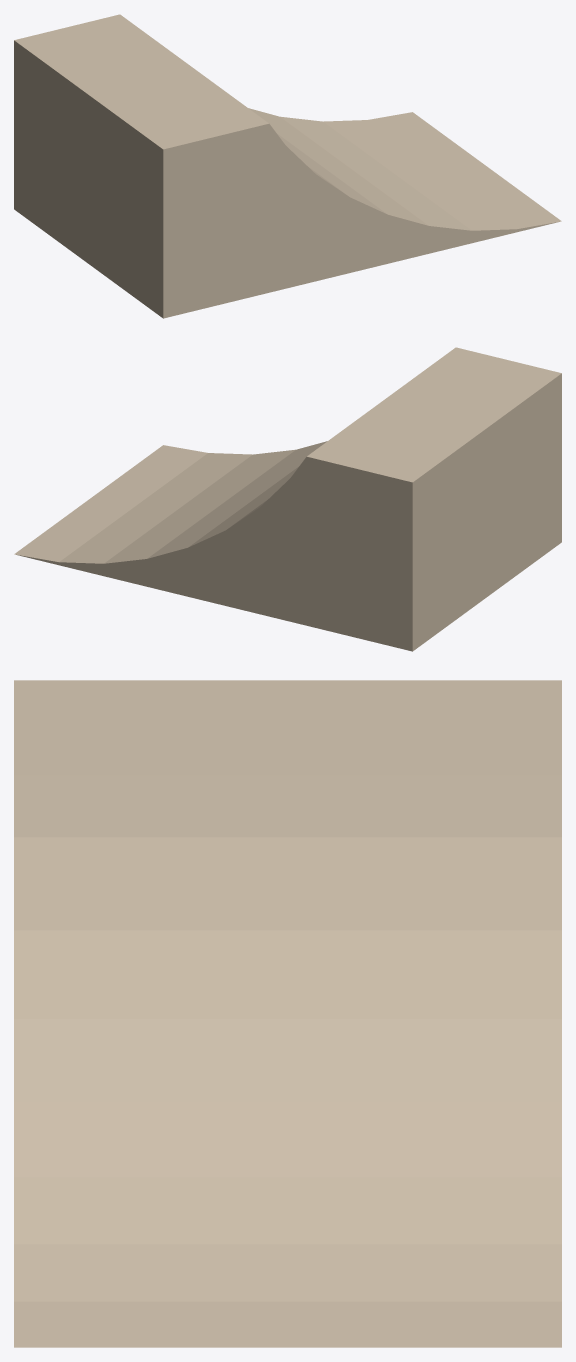
File: qtr-pipe-med.glb
3 views of the same model, one above another, from view 1: azimuth 30°, elevation 25°; view 2: azimuth 150°, elevation 25°; view 3: azimuth 270°, elevation 25° (orthographic). The views are drawn at different scales.
Visible parts, largest first — view 1: Mesh_Mesh_head_geo.001_lambert2SG.001; view 2: Mesh_Mesh_head_geo.001_lambert2SG.001; view 3: Mesh_Mesh_head_geo.001_lambert2SG.001.
Boxes of the visible parts, x1,y1,x2,y2 form: Mesh_Mesh_head_geo.001_lambert2SG.001: (14, 14, 561, 318); Mesh_Mesh_head_geo.001_lambert2SG.001: (14, 347, 561, 651); Mesh_Mesh_head_geo.001_lambert2SG.001: (14, 680, 561, 1347).
Bounding box in the file's own units: 0.037 × 0.015 × 0.024.
